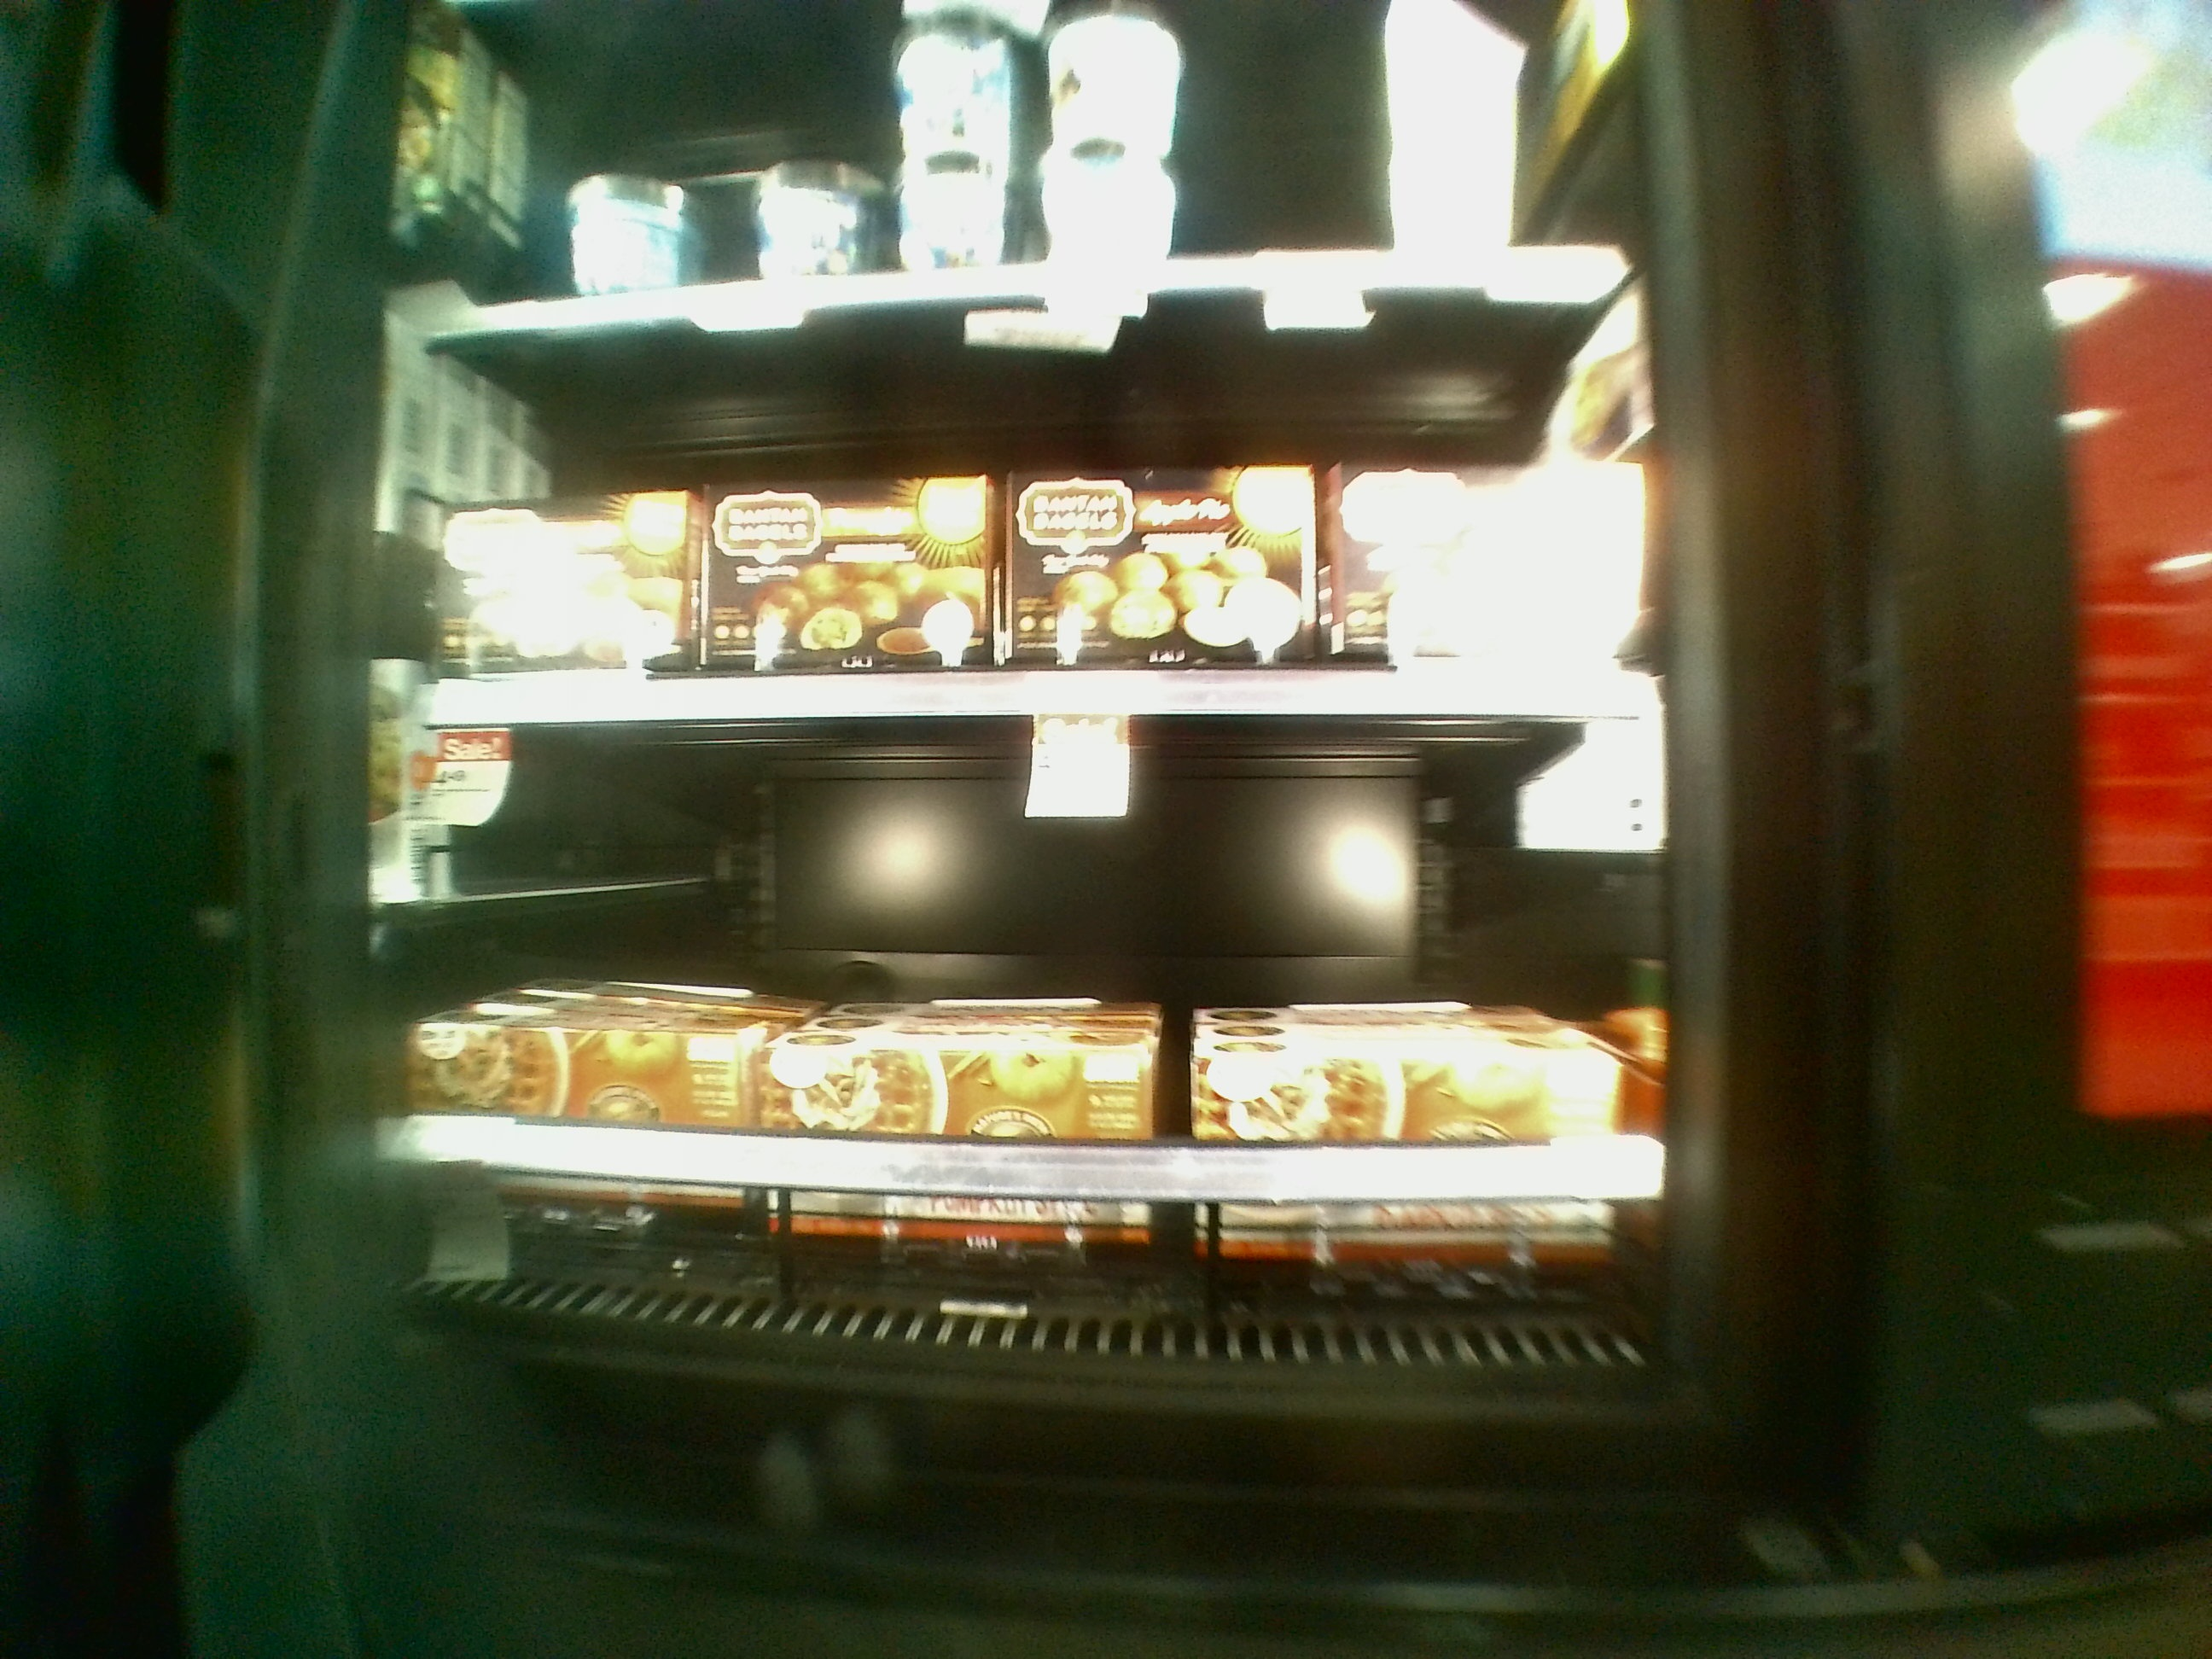shelf: (376, 695, 1679, 1385), (387, 291, 1674, 742)
